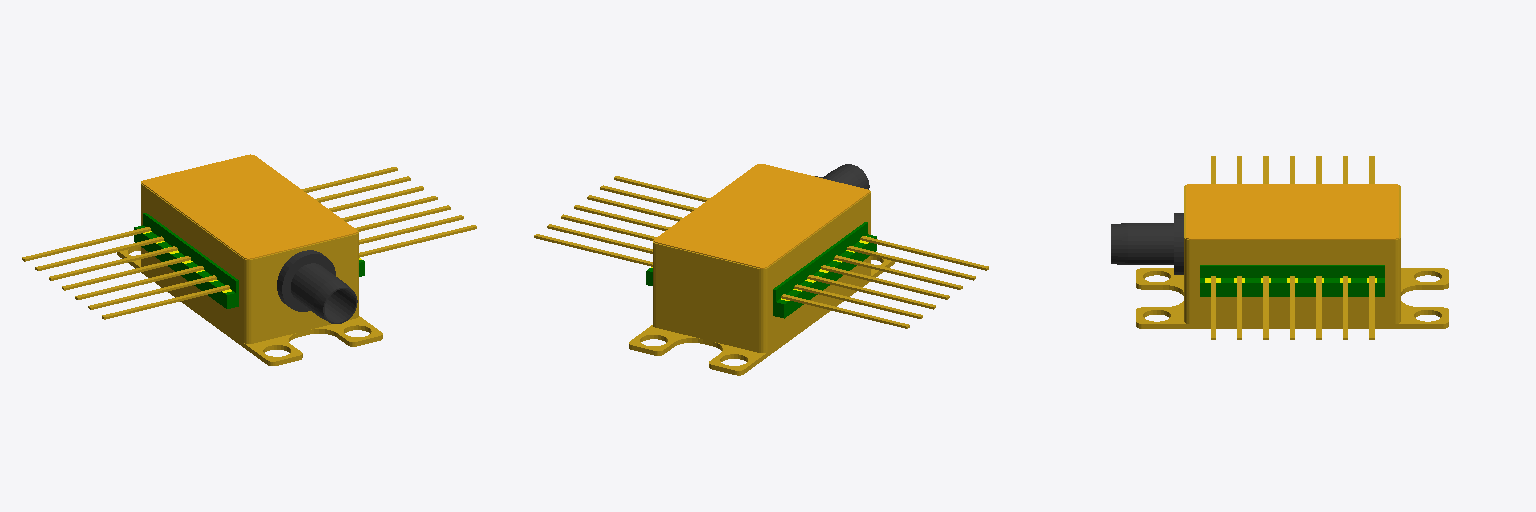
The model's file is DFB_Texture.obj.
The picture shows the model from 3 angles: view 1: azimuth 30°, elevation 25°; view 2: azimuth 150°, elevation 25°; view 3: azimuth 270°, elevation 25°; orthographic projection.
Parts seen in each view (by area): view 1: Body21, Body2, Body1, Body22, Body13, Body14, Body16, Body15, Body17, Body18, Body19, Body20 (+1 smaller); view 2: Body2, Body21, Body1, Body13, Body22, Body14, Body15, Body17, Body18, Body20, Body19, Body16 (+1 smaller); view 3: Body21, Body2, Body1, Body5, Body22.
Boxes of the visible parts, <box> form: Body21: <box>142,154,357,259</box>; Body2: <box>141,181,358,331</box>; Body1: <box>117,246,382,365</box>; Body22: <box>277,250,357,323</box>; Body13: <box>134,213,238,308</box>; Body14: <box>22,227,150,261</box>; Body16: <box>49,246,177,280</box>; Body15: <box>35,236,163,270</box>; Body17: <box>62,256,190,290</box>; Body18: <box>75,266,203,299</box>; Body19: <box>88,275,216,309</box>; Body20: <box>102,285,229,319</box>; Body2: <box>653,190,870,340</box>; Body21: <box>654,164,869,268</box>; Body1: <box>629,256,894,375</box>; Body13: <box>773,222,876,318</box>; Body22: <box>815,164,869,189</box>; Body14: <box>781,294,909,328</box>; Body15: <box>794,284,922,318</box>; Body17: <box>821,265,949,299</box>; Body18: <box>834,255,962,289</box>; Body20: <box>860,236,988,270</box>; Body19: <box>847,246,975,280</box>; Body16: <box>807,275,935,309</box>; Body21: <box>1186,184,1398,239</box>; Body2: <box>1184,185,1400,311</box>; Body1: <box>1136,268,1448,328</box>; Body5: <box>1200,265,1384,296</box>; Body22: <box>1111,213,1183,274</box>.
Size of the model in its own units: 4.14 by 0.9502 by 3.24.